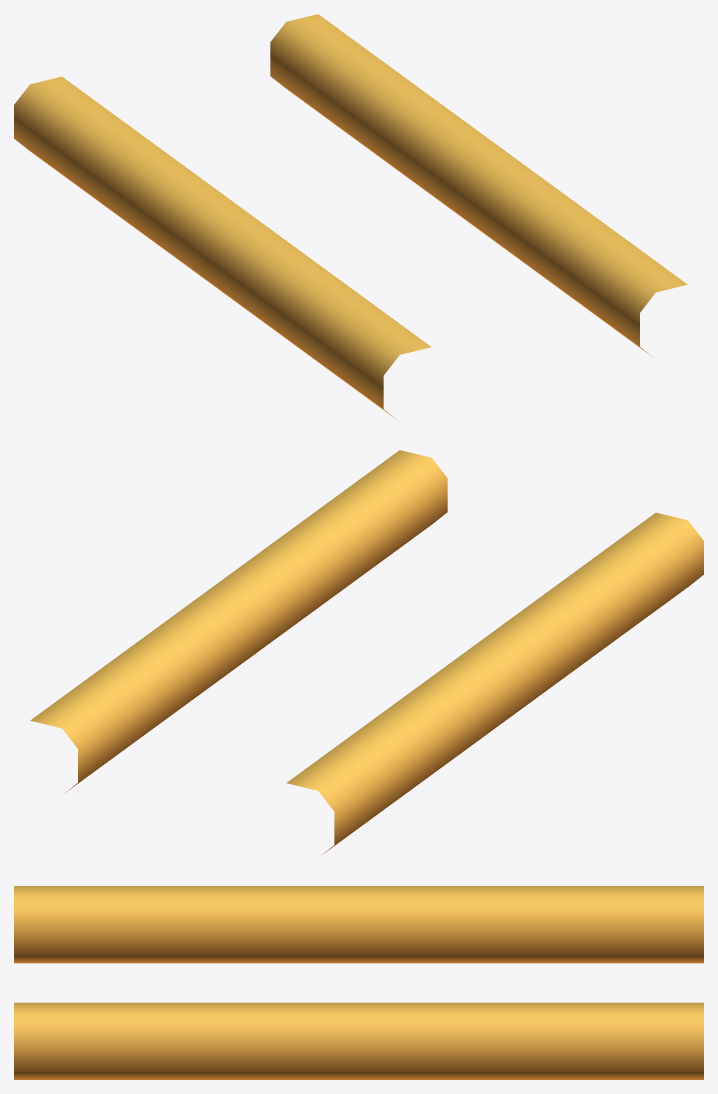
Rendered from kenney-coaster-coaster-mouse-track.glb.
The picture shows the model from 3 angles, top to bottom: view 1: azimuth 30°, elevation 25°; view 2: azimuth 150°, elevation 25°; view 3: azimuth 270°, elevation 25°; orthographic projection. The views are drawn at different scales.
Visible parts, largest first — view 1: coaster-mouse-track; view 2: coaster-mouse-track; view 3: coaster-mouse-track.
Part boxes in pixels (x1,y1,x2,y2): coaster-mouse-track: (14, 14, 687, 420); coaster-mouse-track: (30, 450, 703, 856); coaster-mouse-track: (14, 886, 703, 1079).
Bounding box in the file's own units: 0.5001 × 0.1 × 1.
1 material, 1 textured.
